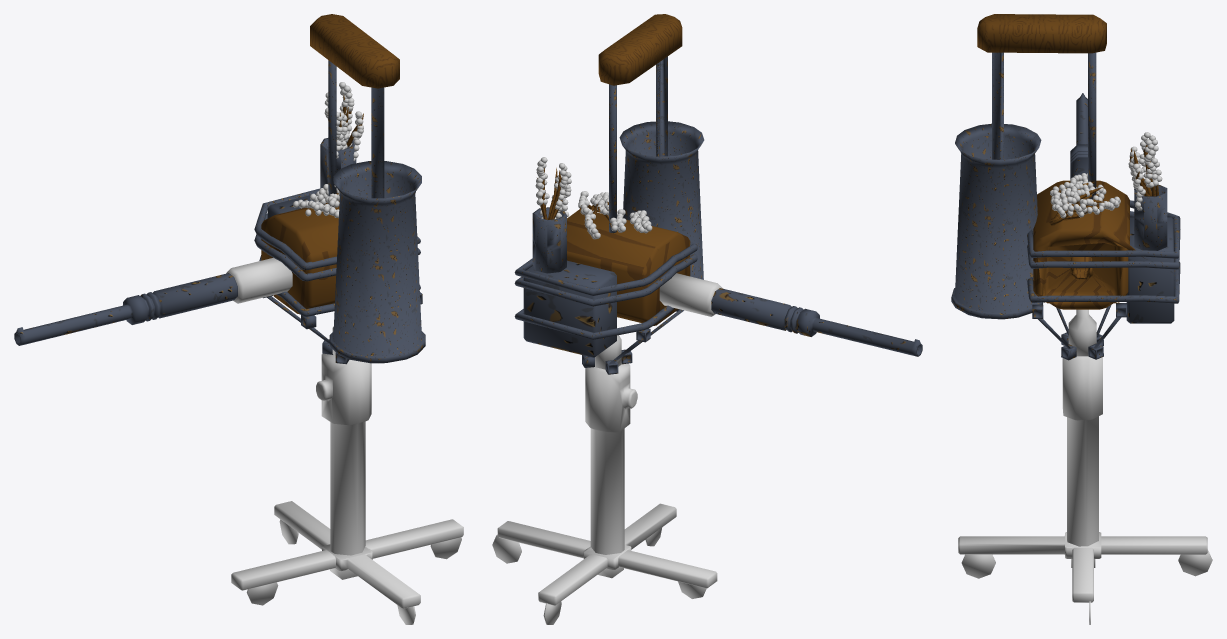
The model's file is TURRETA DE ACAI.dae.
3 renders of one model, left to right at view 1: azimuth 30°, elevation 25°; view 2: azimuth 150°, elevation 25°; view 3: azimuth 270°, elevation 25°, orthographic. The views are drawn at different scales.
Visible parts, largest first — view 1: acai, PE; view 2: acai, PE; view 3: acai, PE.
Part boxes in pixels (x1,y1,x2,y2): acai: [14, 14, 425, 364]; PE: [231, 353, 463, 624]; acai: [514, 14, 922, 374]; PE: [492, 363, 717, 624]; acai: [951, 14, 1180, 360]; PE: [958, 356, 1212, 624].
Bounding box in the file's own units: 6.46 × 3.38 × 7.83.
